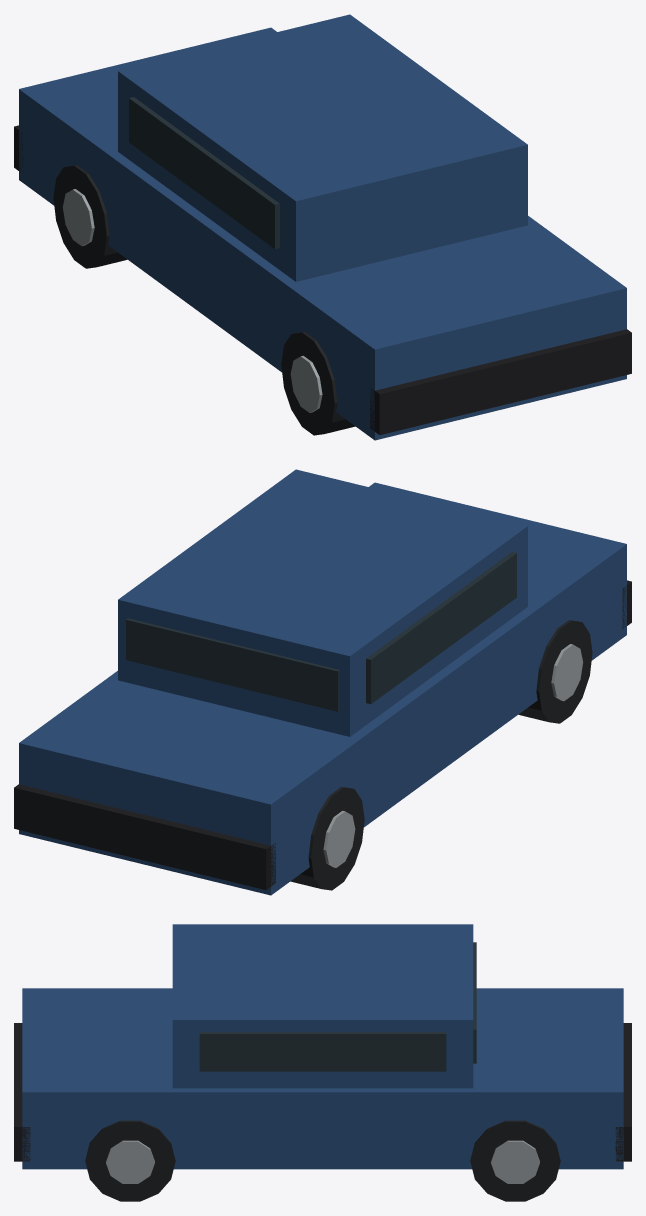
Rendered from sedan.glb.
3 renders of one model, top to bottom at view 1: azimuth 30°, elevation 25°; view 2: azimuth 150°, elevation 25°; view 3: azimuth 270°, elevation 25°, orthographic. The views are drawn at different scales.
Parts seen in each view (by area): view 1: sedan; view 2: sedan; view 3: sedan.
Part boxes in pixels (x1,y1,x2,y2): sedan: (14, 14, 631, 440); sedan: (14, 469, 631, 895); sedan: (14, 924, 631, 1201).
Bounding box in the file's own units: 1.88 × 1.42 × 4.52.
